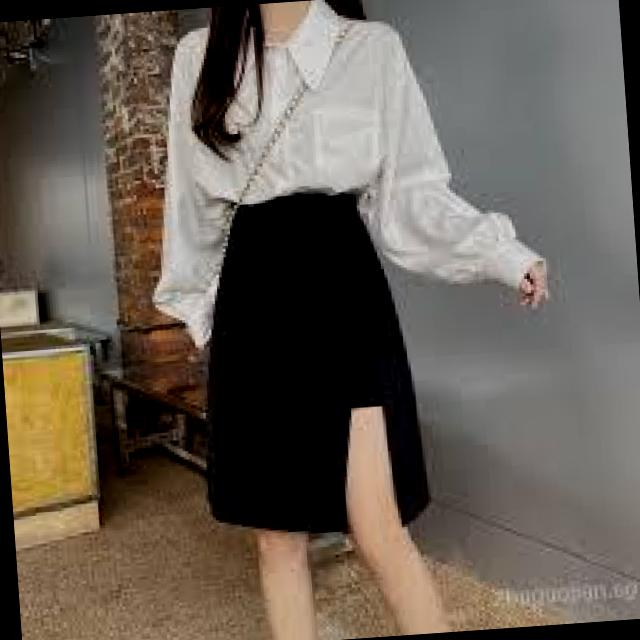shirt: (143, 0, 548, 332)
skirt: (180, 190, 438, 544)
